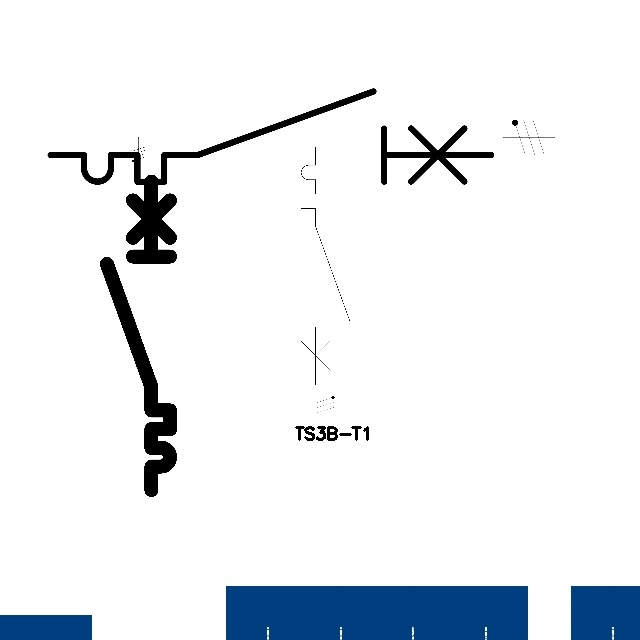interruptor_termomagnetico: (39, 80, 502, 193), (99, 173, 178, 497), (295, 141, 356, 390)
